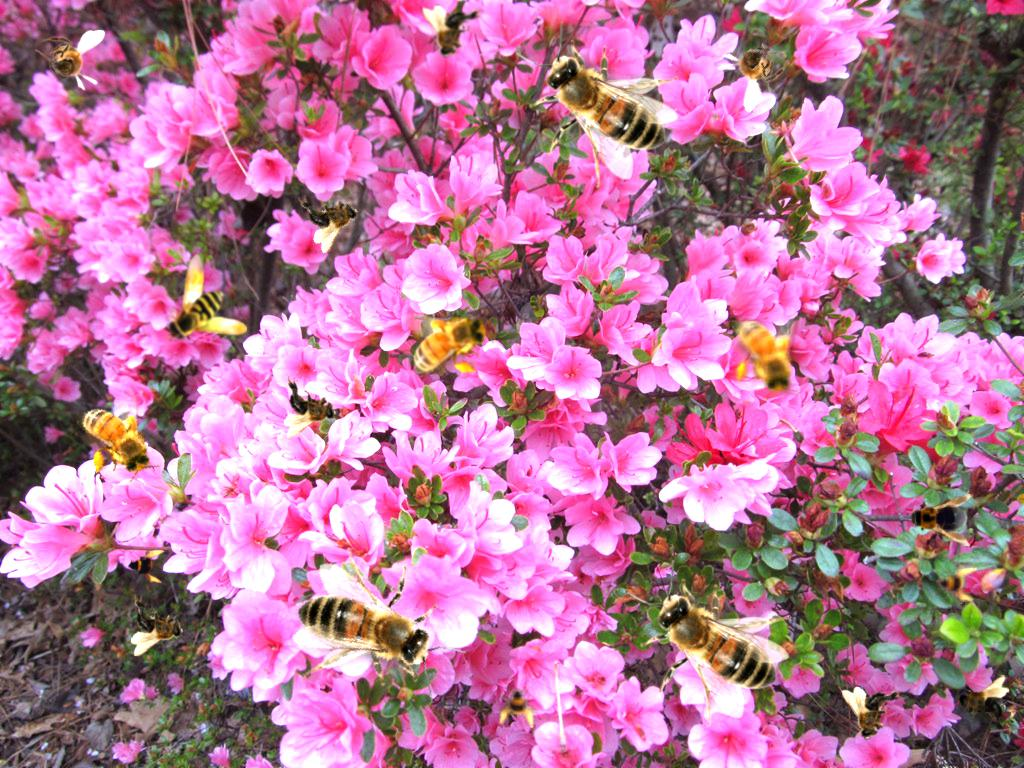Bee: (271, 523, 476, 731), (627, 560, 789, 727), (516, 21, 678, 188), (70, 383, 164, 492), (707, 20, 800, 114), (165, 254, 247, 342), (732, 307, 800, 400), (401, 309, 494, 377), (294, 176, 369, 256), (35, 30, 105, 91), (420, 4, 485, 60), (905, 494, 973, 546), (284, 376, 337, 438), (842, 687, 904, 740), (956, 675, 1009, 737), (131, 594, 184, 656), (497, 684, 541, 728), (933, 560, 977, 604), (122, 542, 166, 586)
